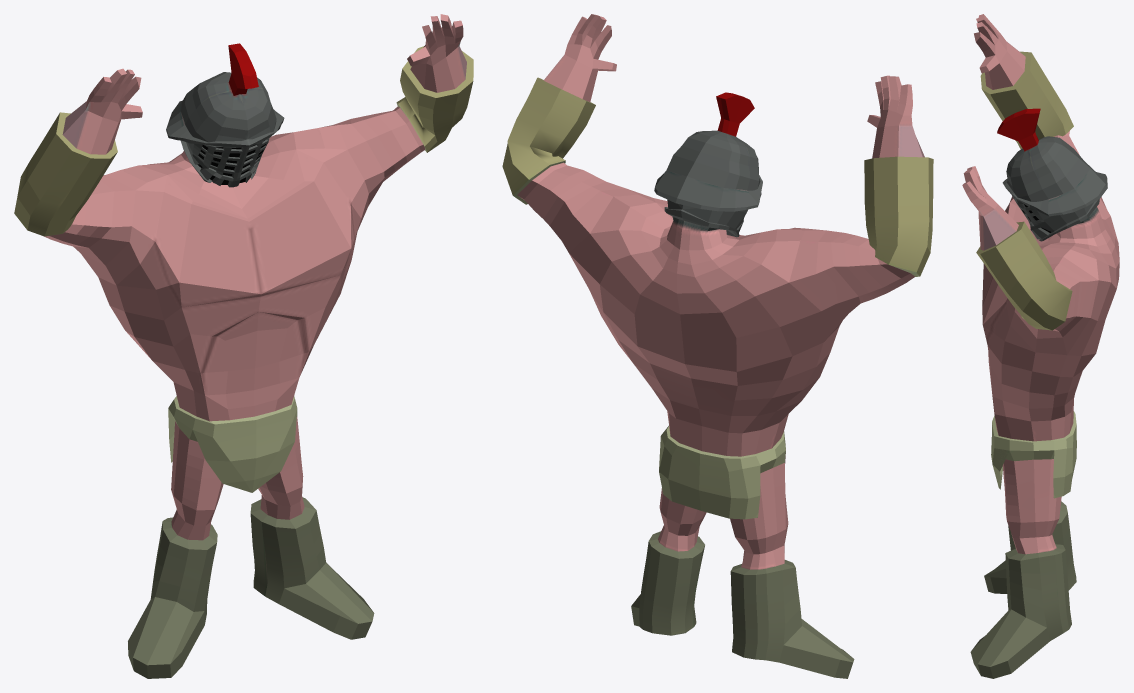
The model's file is GladiatorCelebracion_000588.obj.
3 renders of one model, left to right at view 1: azimuth 30°, elevation 25°; view 2: azimuth 150°, elevation 25°; view 3: azimuth 270°, elevation 25°, orthographic. The views are drawn at different scales.
Parts seen in each view (by area): view 1: Gadiador_Gladiador_H; view 2: Gadiador_Gladiador_H; view 3: Gadiador_Gladiador_H.
Boxes of the visible parts, x1=… form: Gadiador_Gladiador_H: x1=14, y1=14, x2=473, y2=678; Gadiador_Gladiador_H: x1=502, y1=14, x2=933, y2=678; Gadiador_Gladiador_H: x1=962, y1=14, x2=1119, y2=678.
Size of the model in its own units: 5.9 by 8 by 2.07.
Materials: 1 (1 with a texture image).
